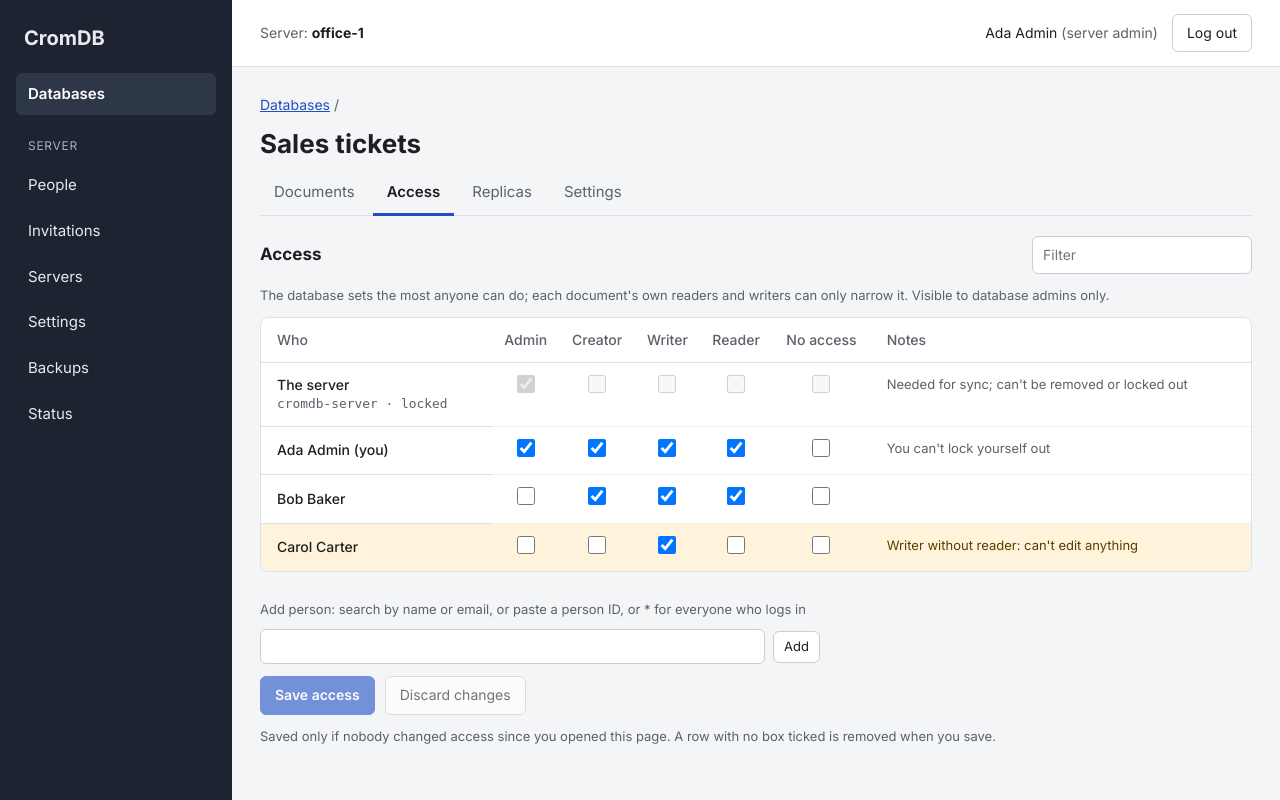
Test case: the Access tab › asks before unsaved changes are left for another tab, and keeps them on Stay
Click the checkbox named "Reader: Carol Carter".
click(736, 544)  # box x1=727 y1=536 x2=745 y2=554
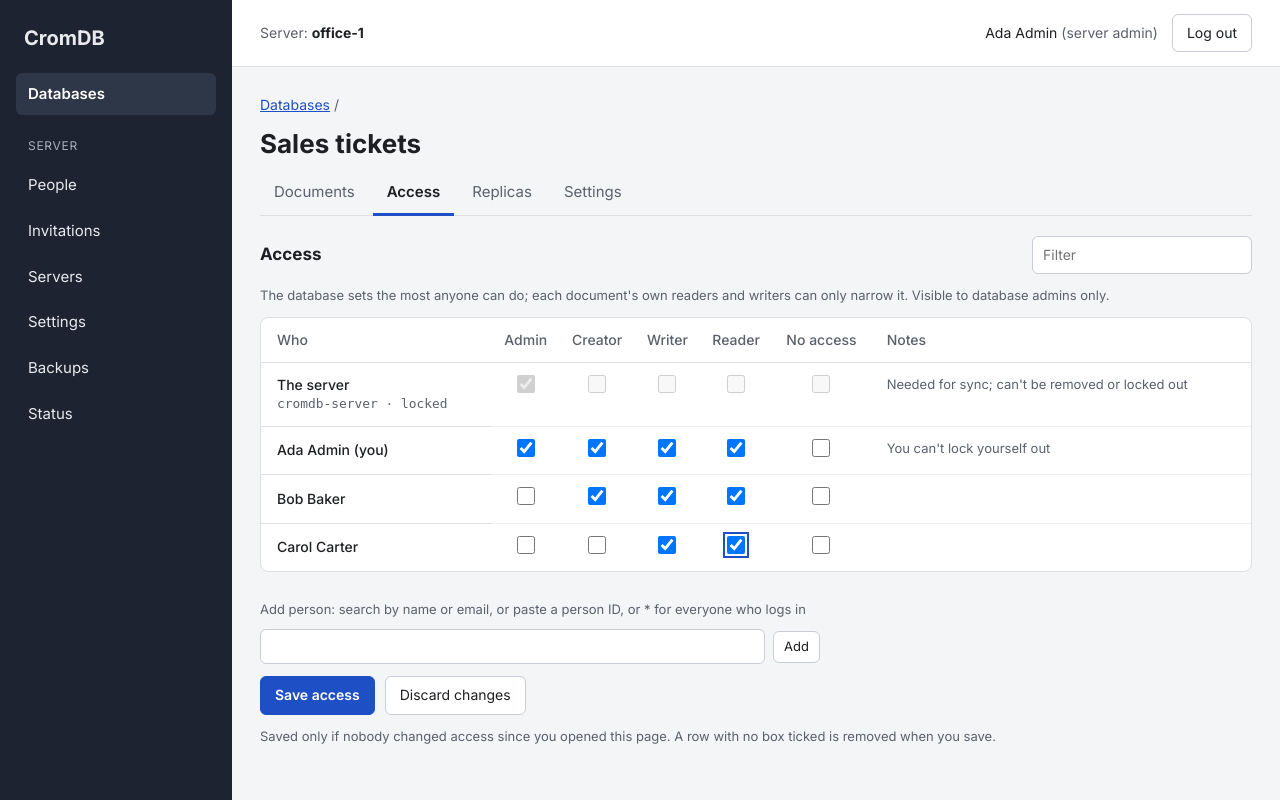
Click the link "Settings" next to "Replicas".
click(593, 191)  # box x1=564 y1=182 x2=622 y2=201
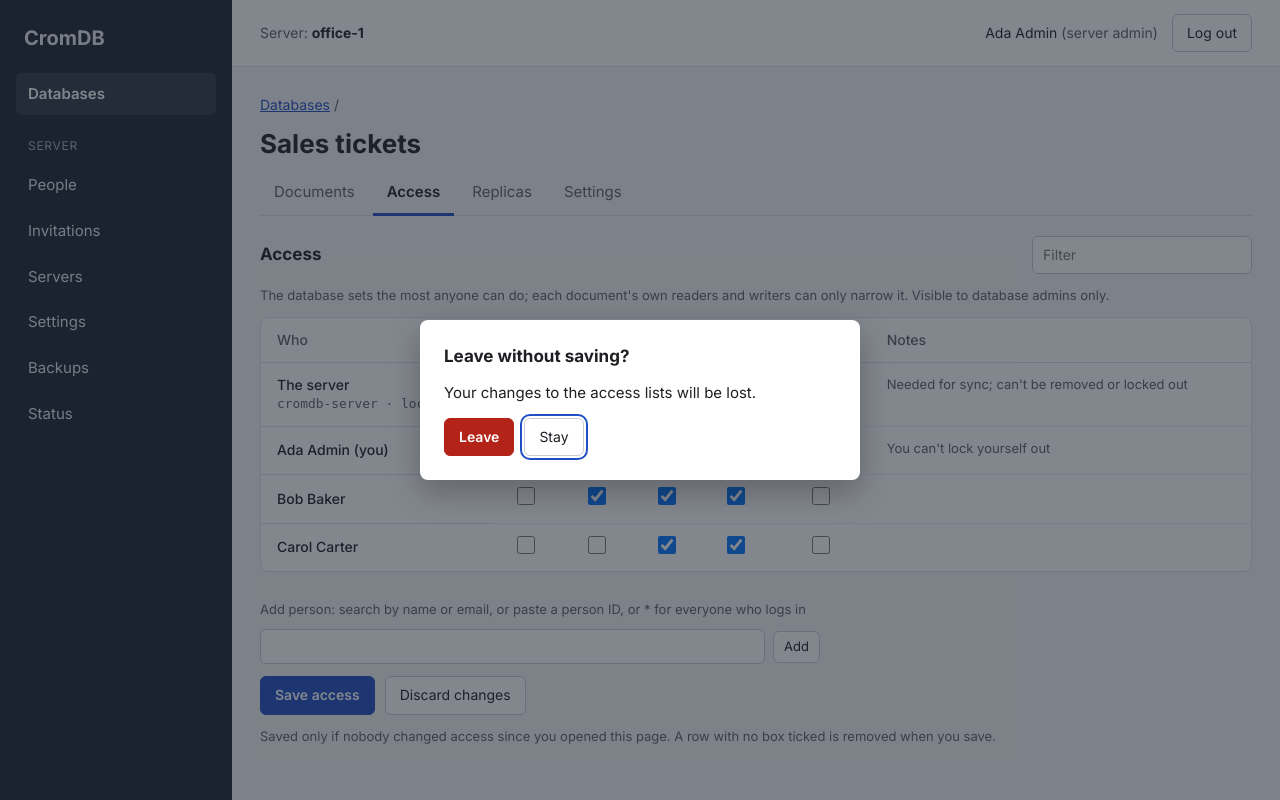
Now the dialog "Leave without saving?" shows "Your changes to the access lists will be lost.", box x1=420 y1=320 x2=860 y2=480
Click the button "Stay".
click(554, 437)  # box x1=524 y1=418 x2=584 y2=456
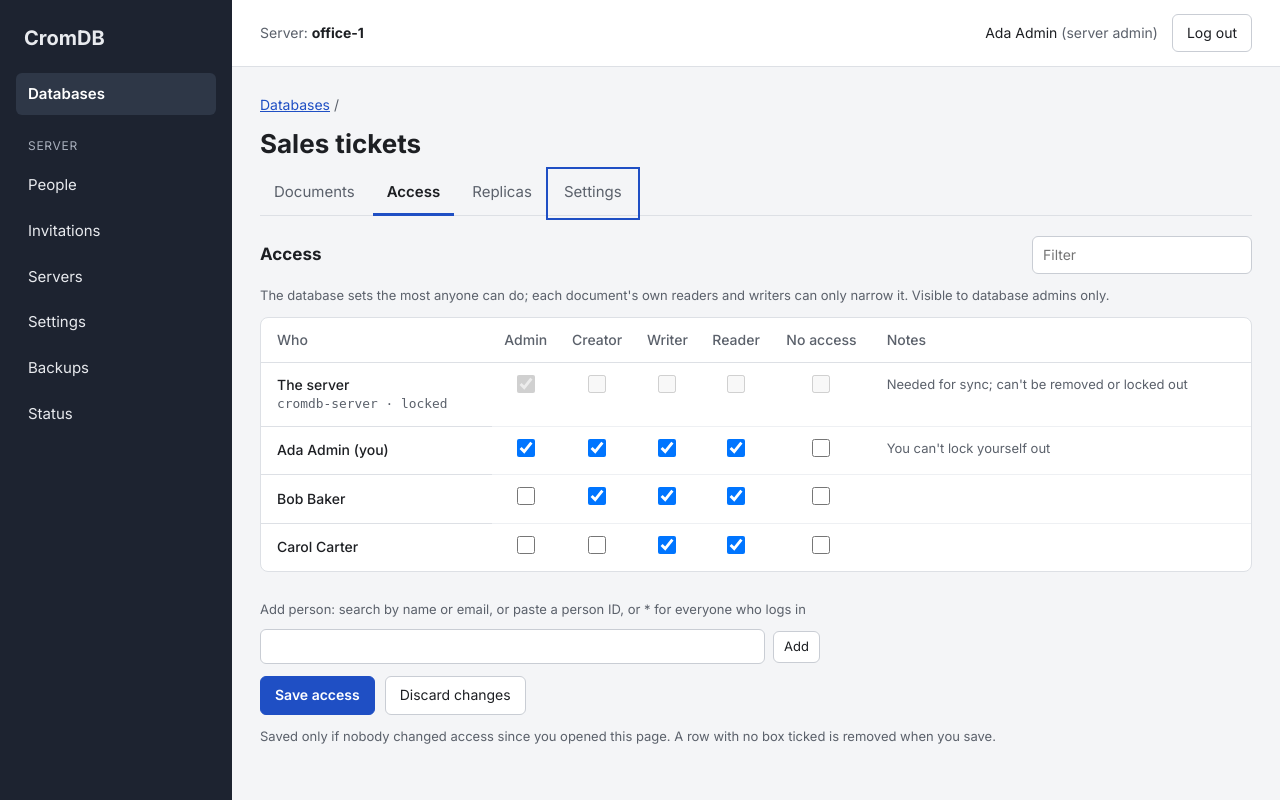
Expected: the heading "Access" is shown, x1=260 y1=242 x2=322 y2=267
Now the checkbox named "Reader: Carol Carter" is checked, box x1=727 y1=536 x2=745 y2=554
Click the link "Settings" next to "Replicas".
click(593, 191)  # box x1=564 y1=182 x2=622 y2=201
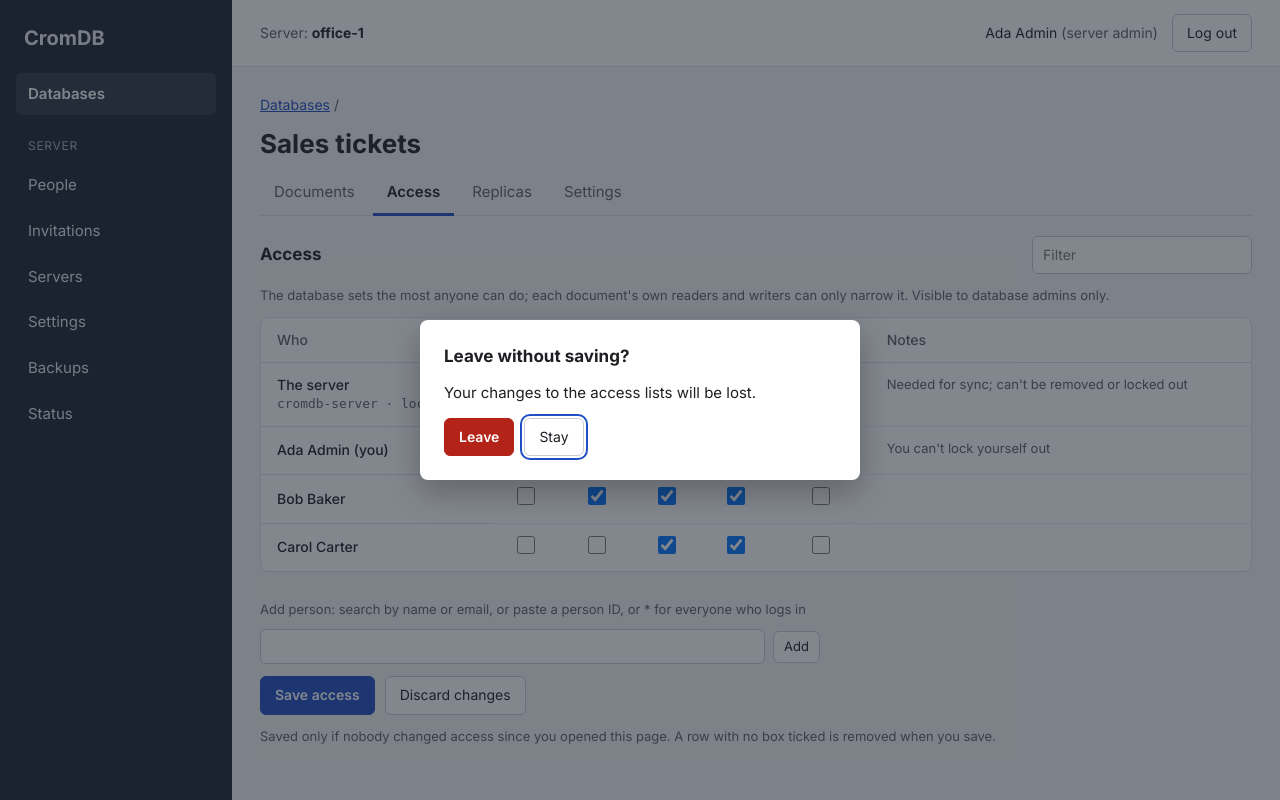
Click the button "Leave".
click(479, 437)  # box x1=444 y1=418 x2=514 y2=456
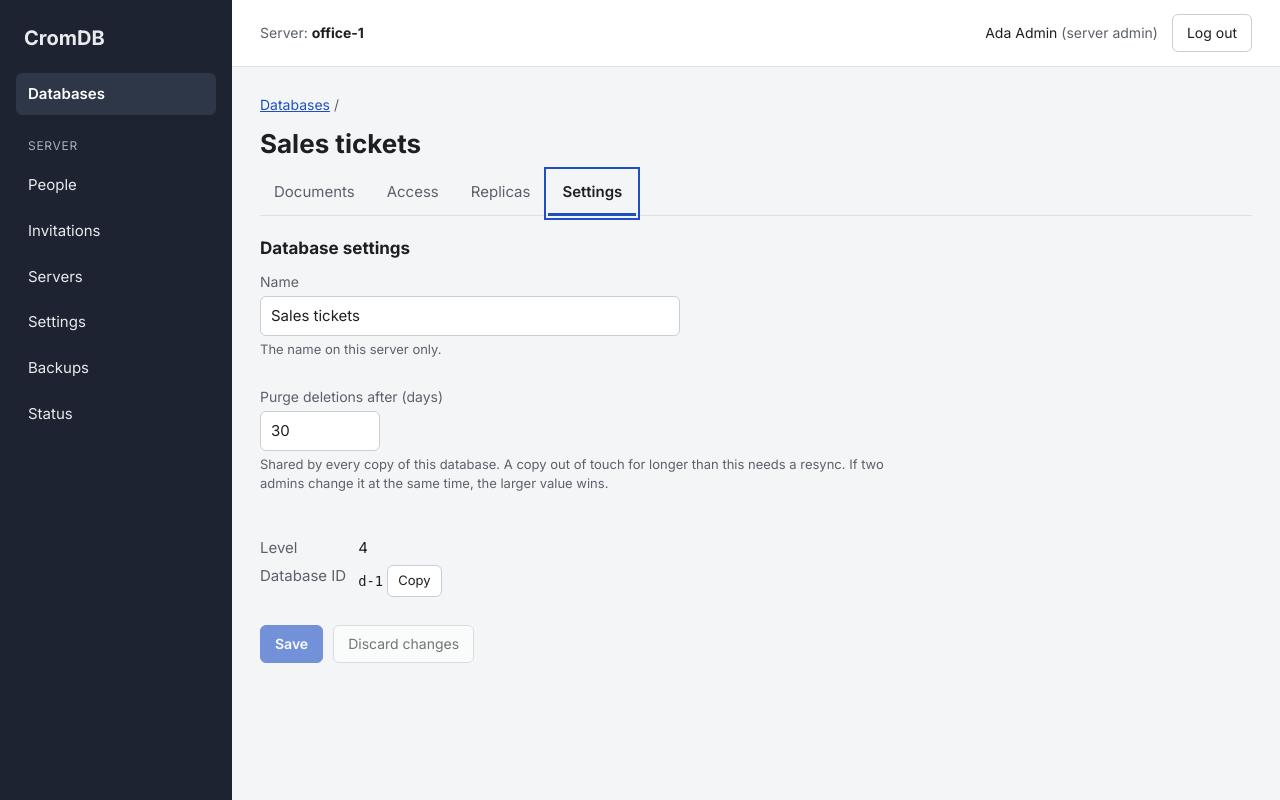
Now the heading "Database settings" is shown, box x1=260 y1=238 x2=410 y2=258
